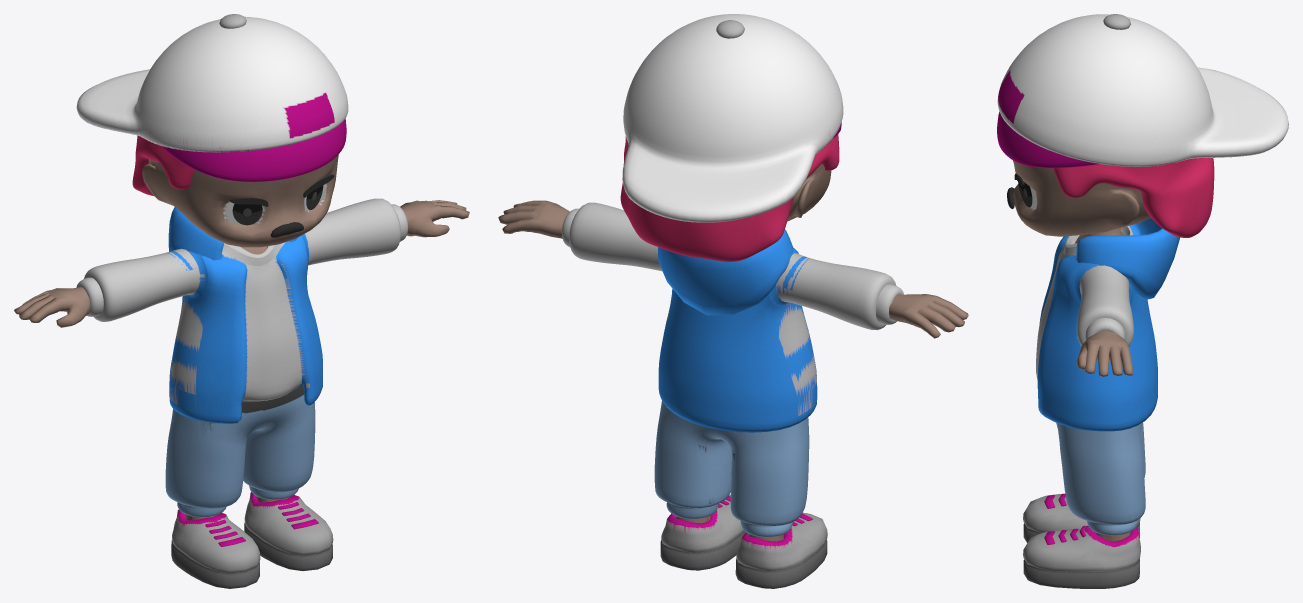
Rendered from source.glb.
The picture shows the model from 3 angles, left to right: view 1: azimuth 30°, elevation 25°; view 2: azimuth 150°, elevation 25°; view 3: azimuth 270°, elevation 25°; orthographic projection. The views are drawn at different scales.
Parts seen in each view (by area): view 1: 04_04_MAT.001_0; view 2: 04_04_MAT.001_0; view 3: 04_04_MAT.001_0.
Part boxes in pixels (bbox=[...]): 04_04_MAT.001_0: bbox=[14, 14, 469, 588]; 04_04_MAT.001_0: bbox=[498, 14, 968, 588]; 04_04_MAT.001_0: bbox=[997, 14, 1288, 588].
Bounding box in the file's own units: 1.93 × 2.18 × 1.07.
1 material, 1 textured.
